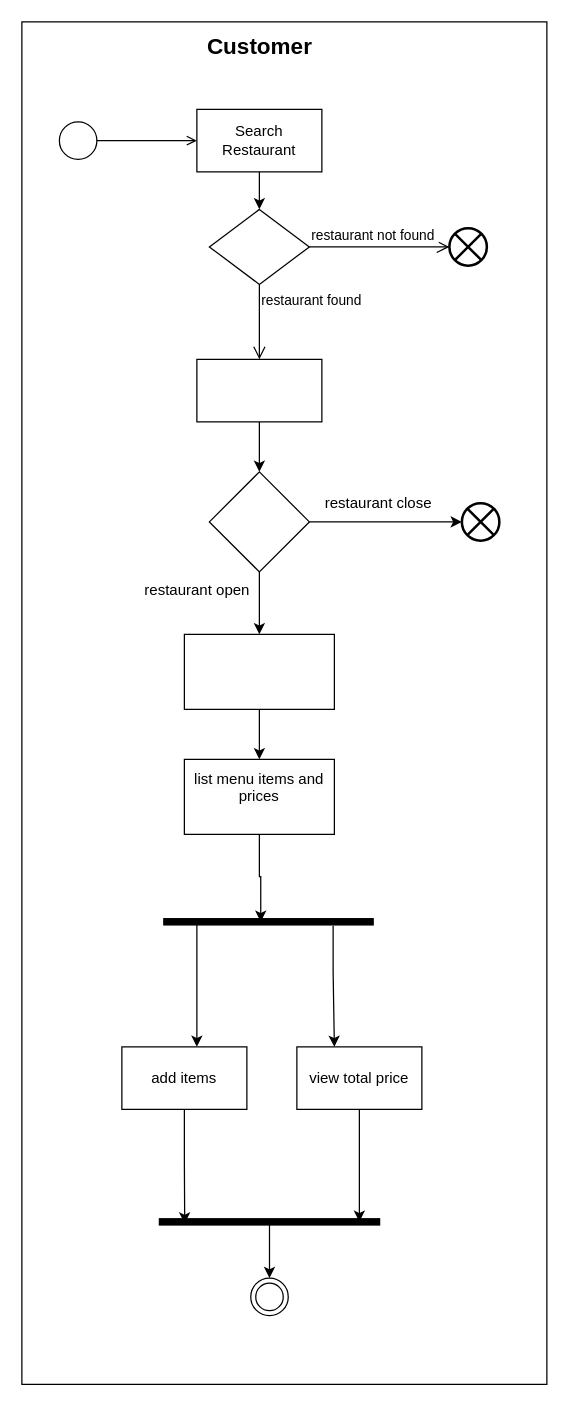
Image size: 569x1406. Some labels were removed from this diagram. Each missing label, with the centre of its shape:
"get menu" goes at (x=258, y=671).
"get restaurant details" goes at (x=259, y=390).
